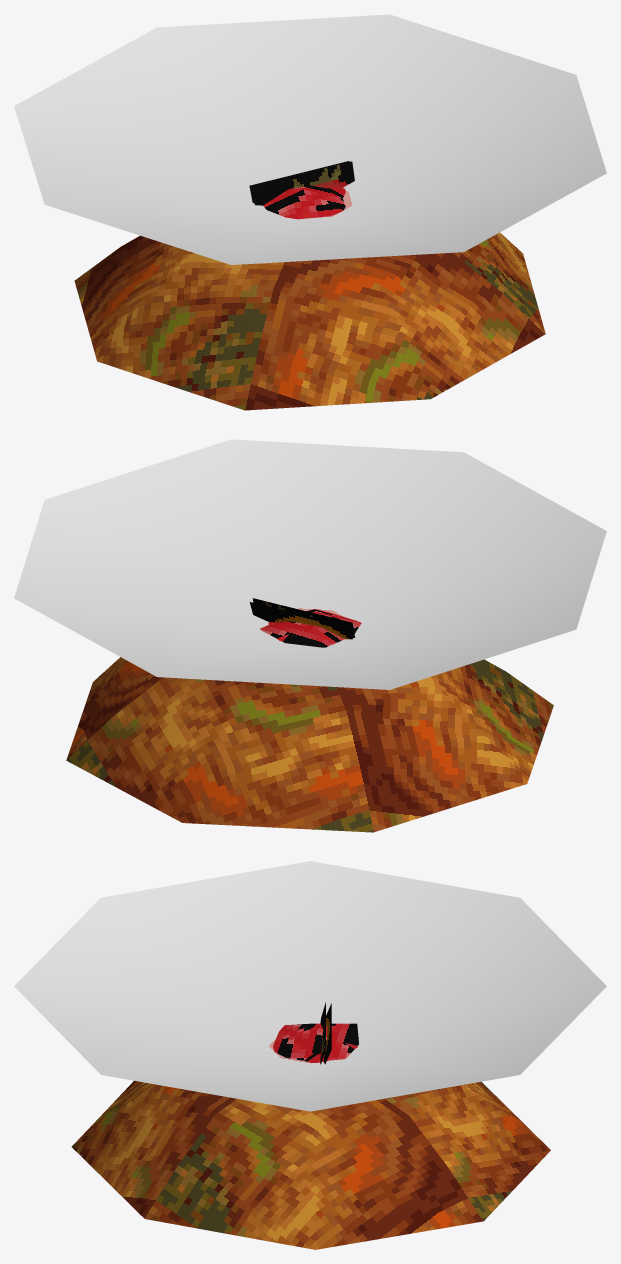
3 renders of one model, top to bottom at view 1: azimuth 30°, elevation 25°; view 2: azimuth 150°, elevation 25°; view 3: azimuth 270°, elevation 25°, orthographic. The views are drawn at different scales.
Parts seen in each view (by area): view 1: 5560u_yksb00_ss; view 2: 5560u_yksb00_ss; view 3: 5560u_yksb00_ss.
Part boxes in pixels (<box>): 5560u_yksb00_ss: <box>14,14,606,410</box>; 5560u_yksb00_ss: <box>14,439,606,832</box>; 5560u_yksb00_ss: <box>14,861,606,1249</box>.
Bounding box in the file's own units: 0.8994 × 0.2715 × 0.8994.
5 materials, 5 textured.
